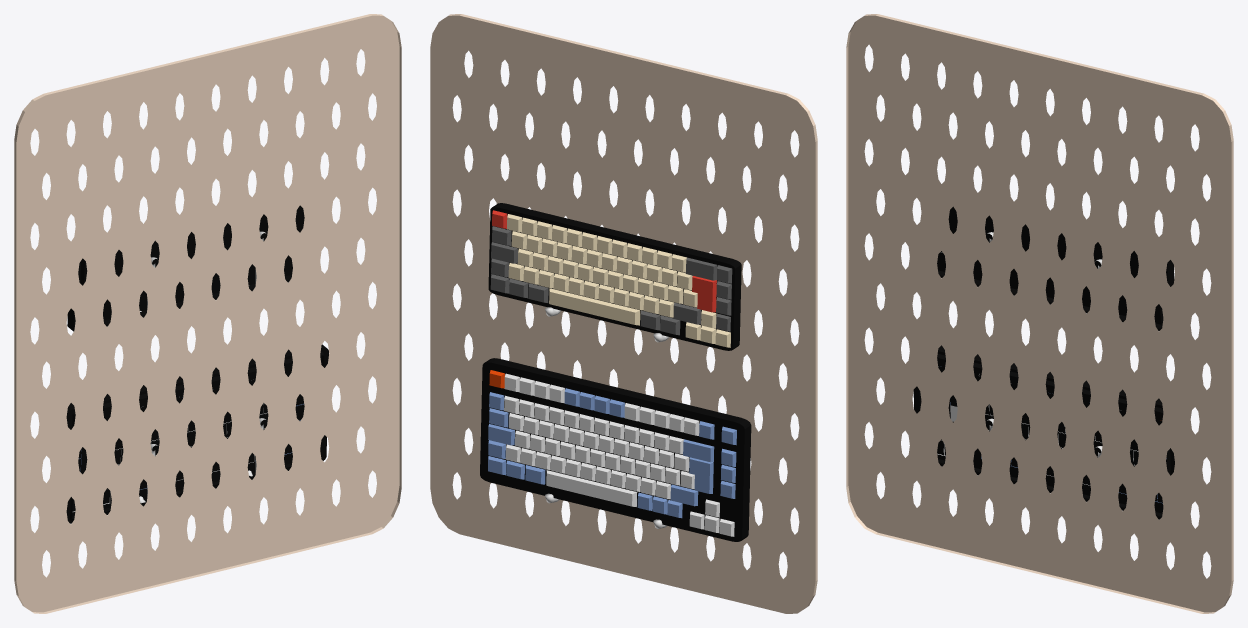
Rendered from skadils.glb.
3 views of the same model, side by side, from view 1: azimuth 30°, elevation 25°; view 2: azimuth 150°, elevation 25°; view 3: azimuth 330°, elevation 25° (orthographic).
Visible parts, largest first — view 1: Skadils, KeyboardBlue, KBD67; view 2: Skadils, KeyboardBlue, KBD67; view 3: Skadils, KeyboardBlue, KBD67.
Boxes of the visible parts, x1,y1,x2,y2 form: Skadils: (14, 14, 401, 613); KeyboardBlue: (66, 344, 328, 523); KBD67: (67, 205, 304, 331); Skadils: (430, 14, 817, 613); KeyboardBlue: (480, 358, 751, 541); KBD67: (488, 203, 741, 350); Skadils: (846, 14, 1233, 613); KeyboardBlue: (913, 345, 1174, 519); KBD67: (937, 206, 1174, 330).
Bounding box in the file's own units: 0.4235 × 0.5447 × 0.0405.
